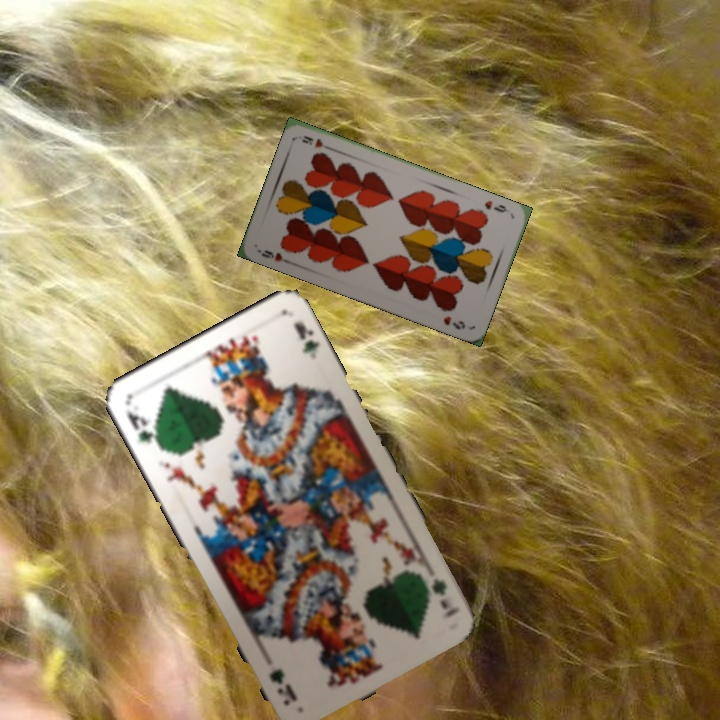GK: (417, 571, 462, 620), (122, 407, 164, 450)
H9: (254, 246, 294, 266), (480, 196, 510, 215)
